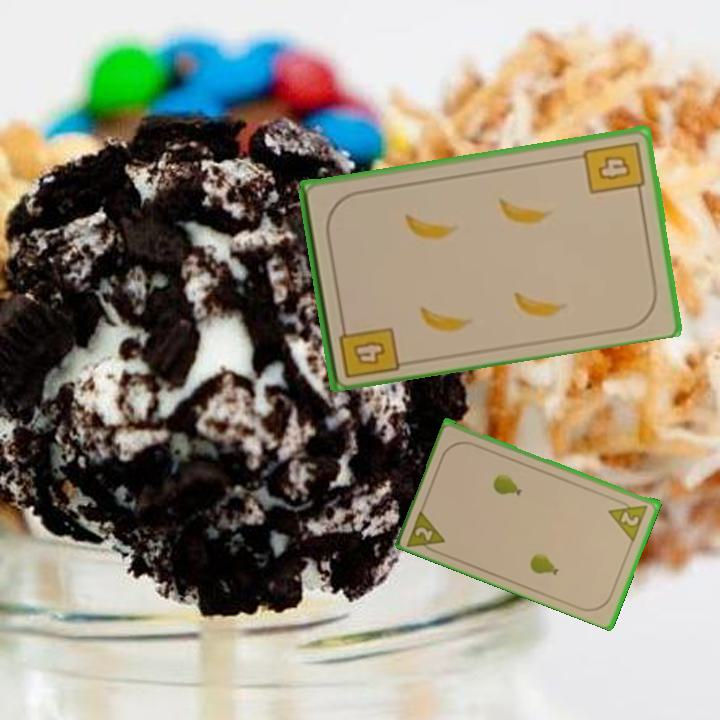2p: (404, 504, 449, 557), (605, 496, 651, 543)
4b: (335, 315, 401, 381), (580, 137, 647, 200)
